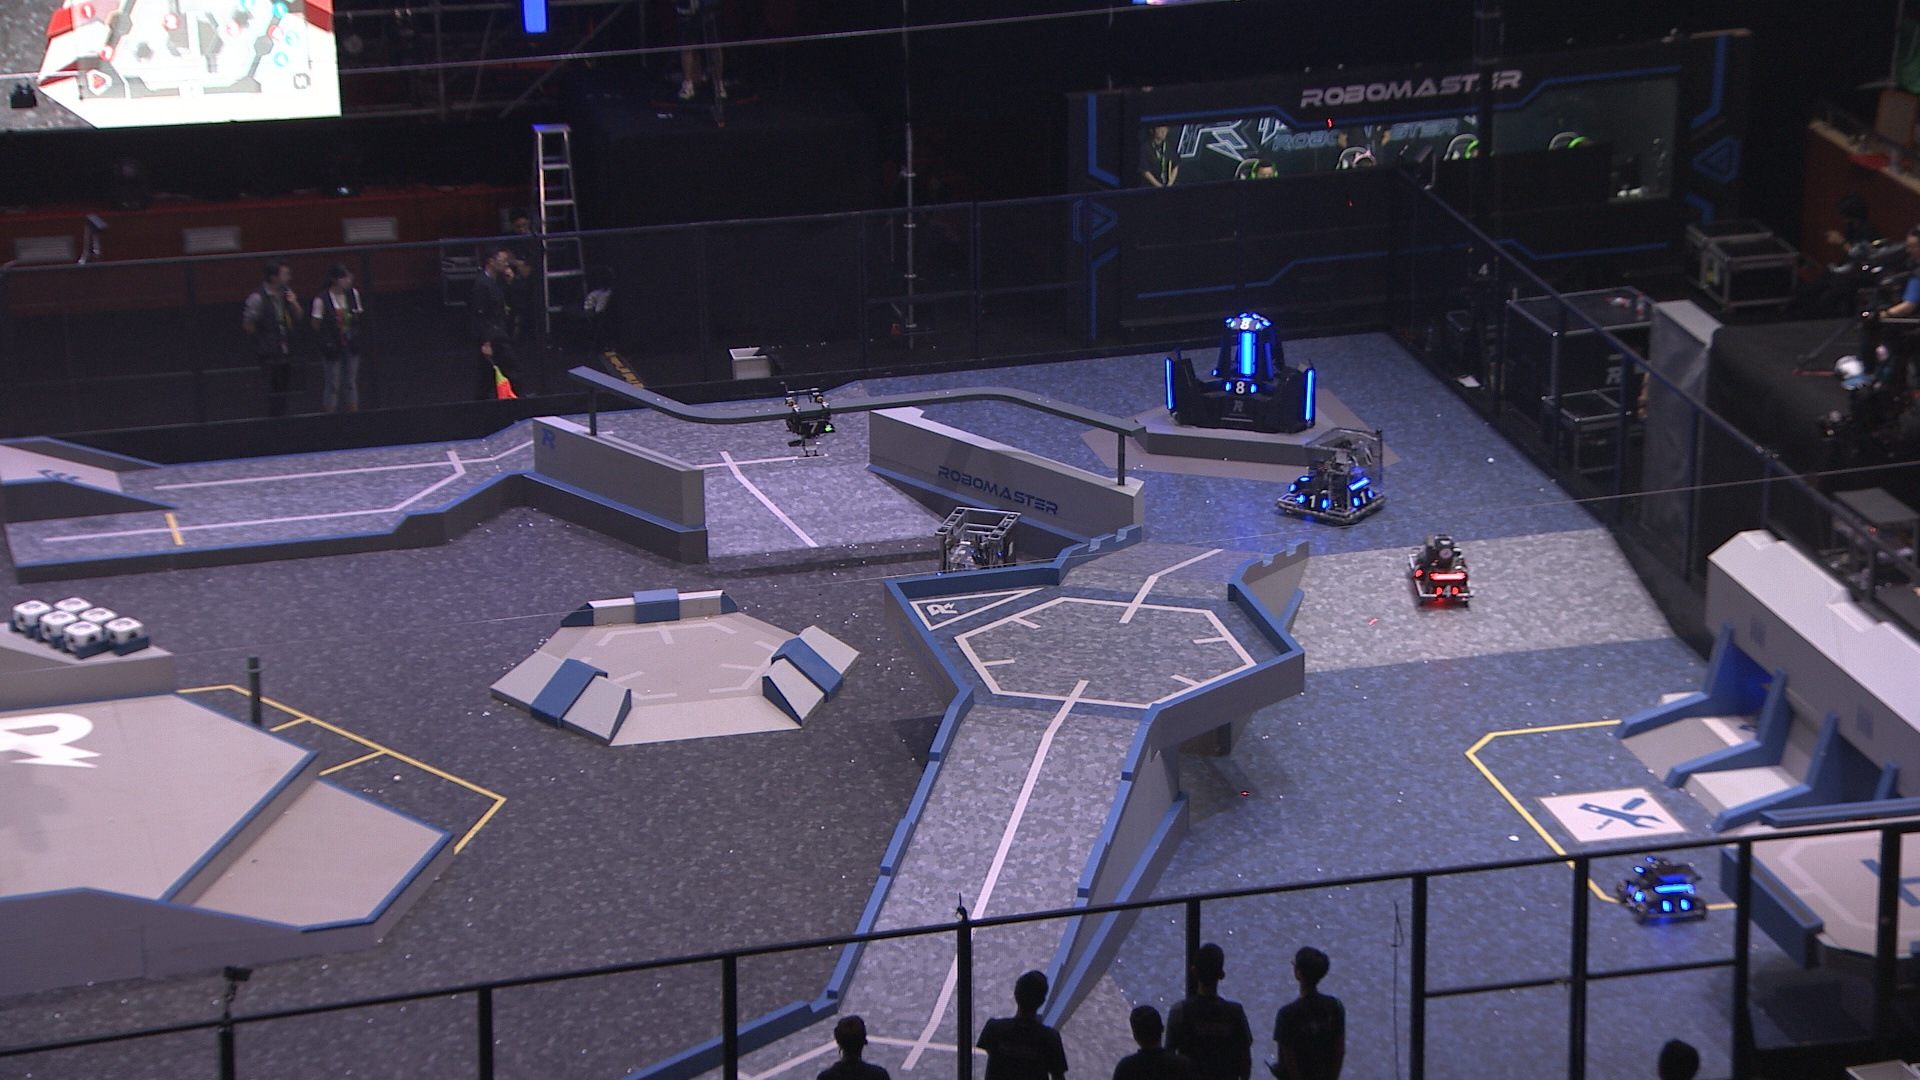armor: (1236, 330, 1261, 378), (1160, 357, 1176, 414), (1295, 491, 1329, 513), (1302, 368, 1316, 419), (1226, 314, 1261, 334), (1346, 485, 1375, 508), (796, 419, 832, 436), (1659, 894, 1691, 913), (1259, 344, 1275, 378), (1432, 584, 1461, 603), (1225, 380, 1258, 396), (1627, 878, 1644, 906), (1250, 310, 1273, 328), (1408, 556, 1425, 580)
base: (1155, 305, 1319, 436)
car: (1276, 423, 1389, 526), (934, 505, 1033, 609), (1614, 851, 1708, 924), (1404, 529, 1474, 607)
watcher: (775, 380, 837, 460)
